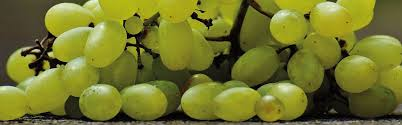Green grapes: (11, 1, 391, 122)
